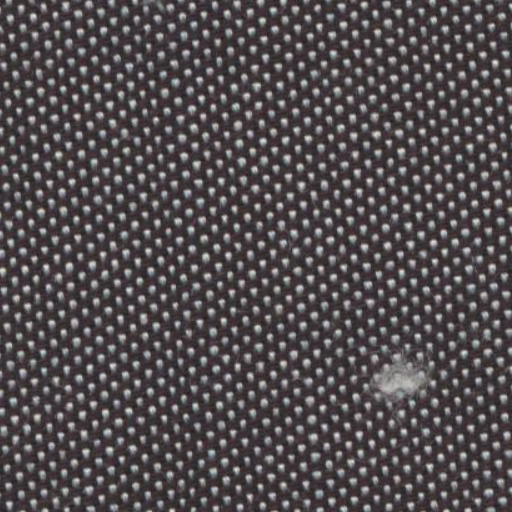PoDong: (360, 338, 452, 426)
